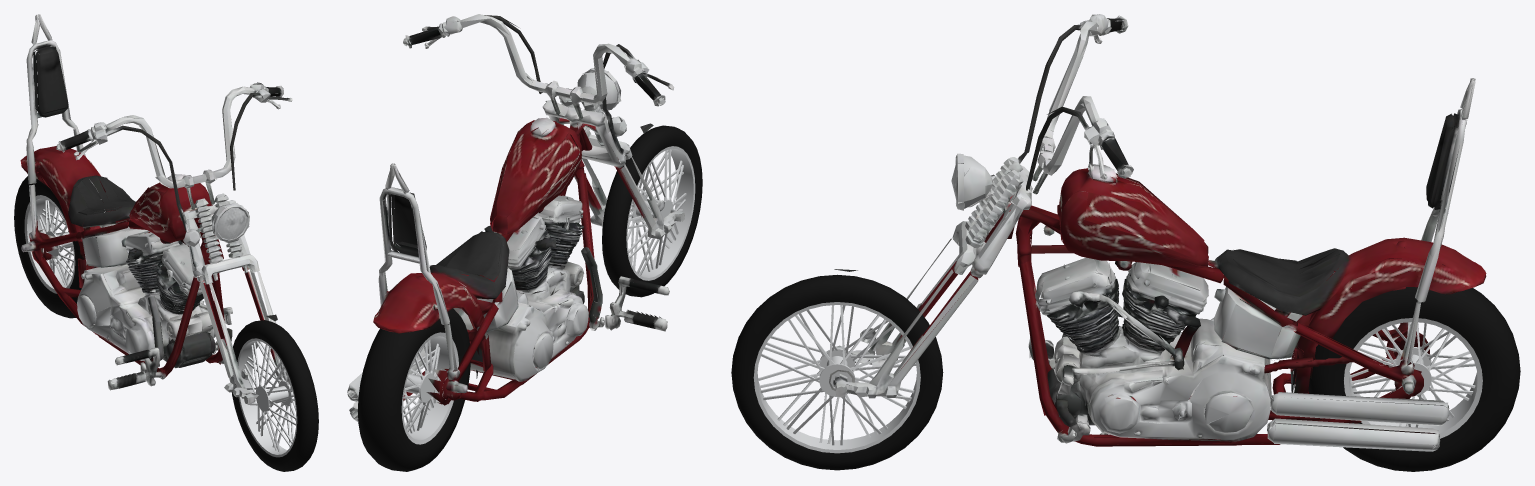
The model's file is chopper-1.glb.
3 views of the same model, side by side, from view 1: azimuth 30°, elevation 25°; view 2: azimuth 150°, elevation 25°; view 3: azimuth 270°, elevation 25° (orthographic). The views are drawn at different scales.
Parts seen in each view (by area): view 1: Frota_chopper, Fork, Tyre_Front, Tyre_Rear; view 2: Frota_chopper, Tyre_Rear, Tyre_Front, Fork; view 3: Frota_chopper, Tyre_Front, Tyre_Rear, Fork.
Boxes of the visible parts, x1,y1,x2,y2 form: Frota_chopper: [20, 14, 256, 390]; Fork: [56, 82, 292, 404]; Tyre_Front: [231, 320, 318, 471]; Tyre_Rear: [14, 176, 102, 318]; Frota_chopper: [347, 96, 669, 421]; Tyre_Rear: [357, 305, 470, 471]; Tyre_Front: [602, 125, 702, 297]; Fork: [403, 14, 684, 239]; Frota_chopper: [961, 78, 1486, 451]; Tyre_Front: [731, 274, 943, 470]; Tyre_Rear: [1308, 287, 1520, 471]; Fork: [829, 14, 1133, 398].
Size of the model in its own units: 1.13 by 1.4 by 2.46.
Materials: 1 (1 with a texture image).
